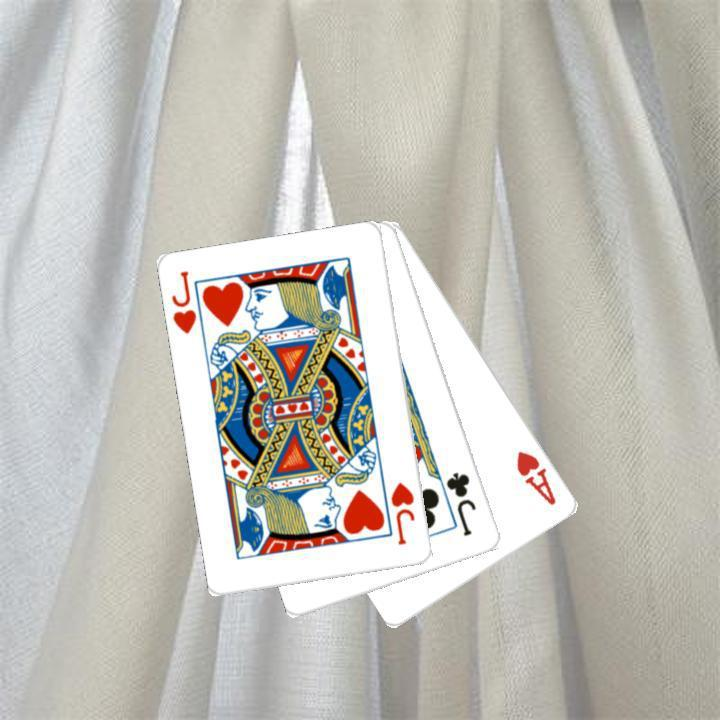A: (512, 446, 559, 508)
J: (442, 468, 479, 539), (387, 478, 418, 547), (168, 267, 199, 336)
